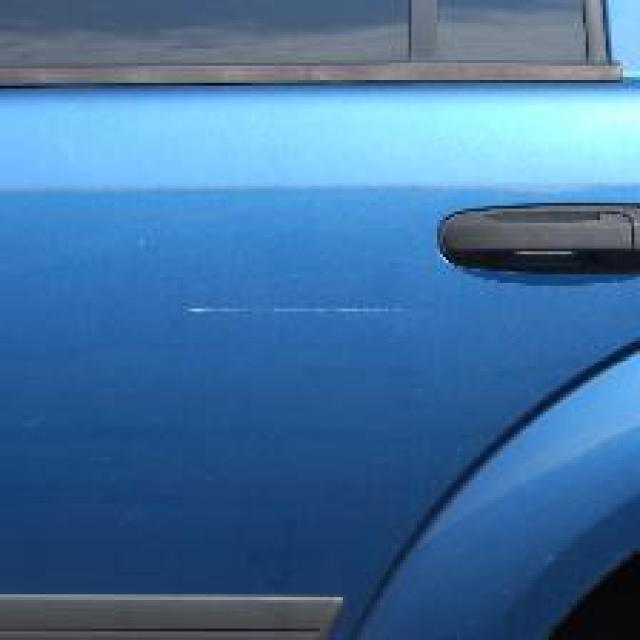damaged: (180, 303, 414, 320)
